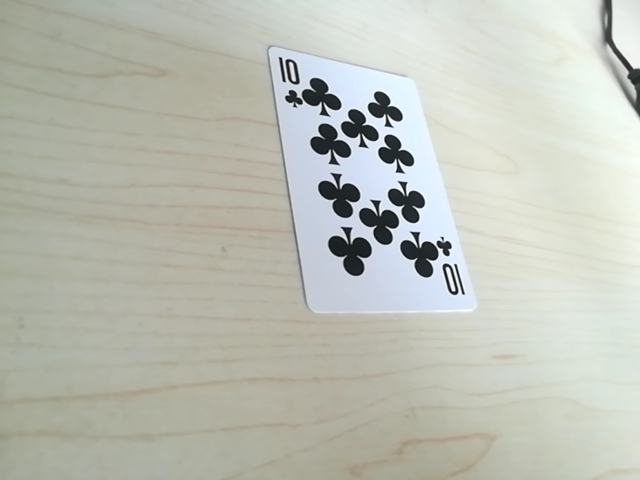mh 10: (273, 56, 320, 118), (423, 241, 463, 300)
